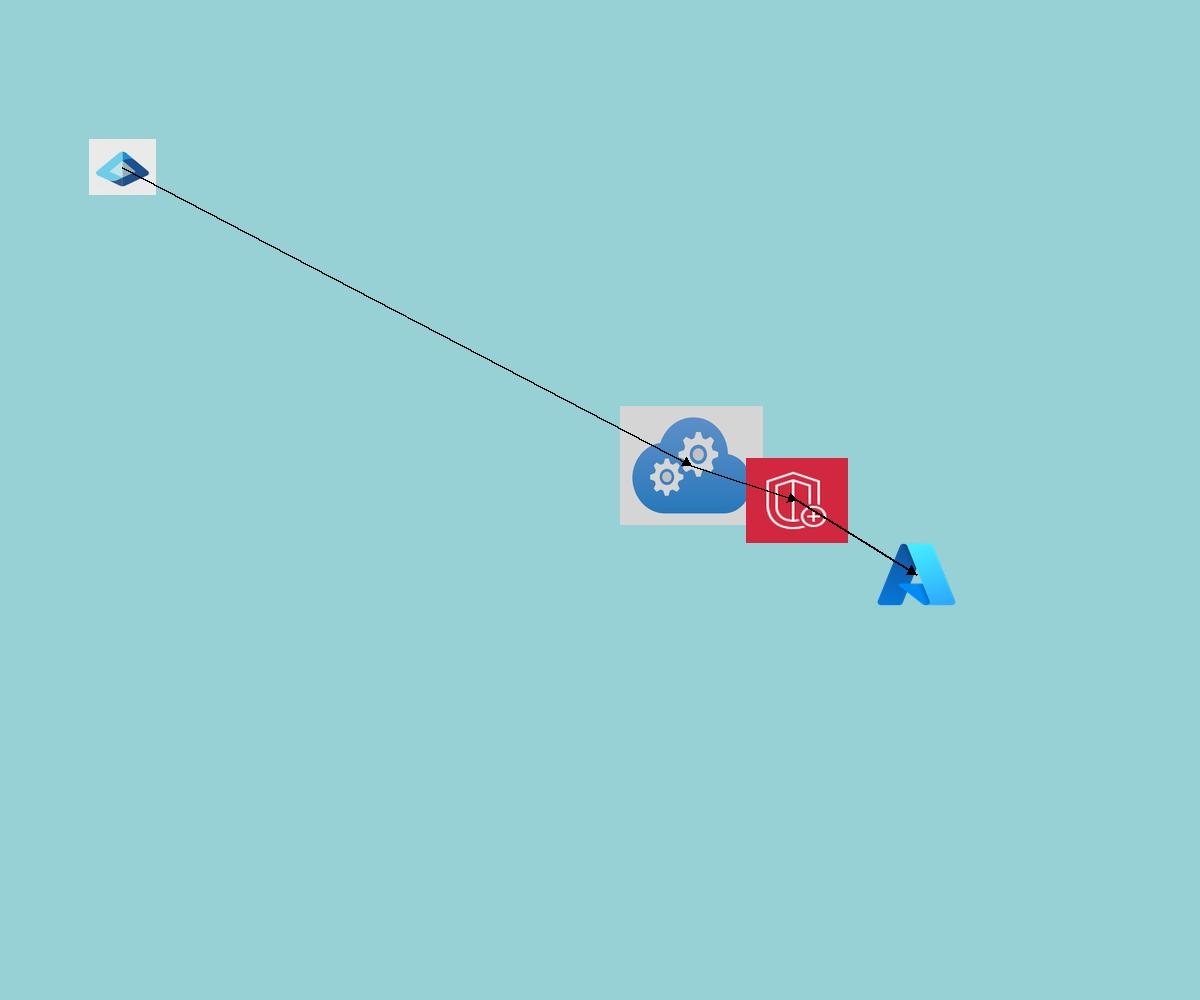AWS-Shield: (746, 458, 848, 543)
Azure_cloud_services: (620, 406, 763, 525)
Azure_microsoft_entra: (89, 139, 156, 195)
Azure_services: (874, 539, 959, 610)
